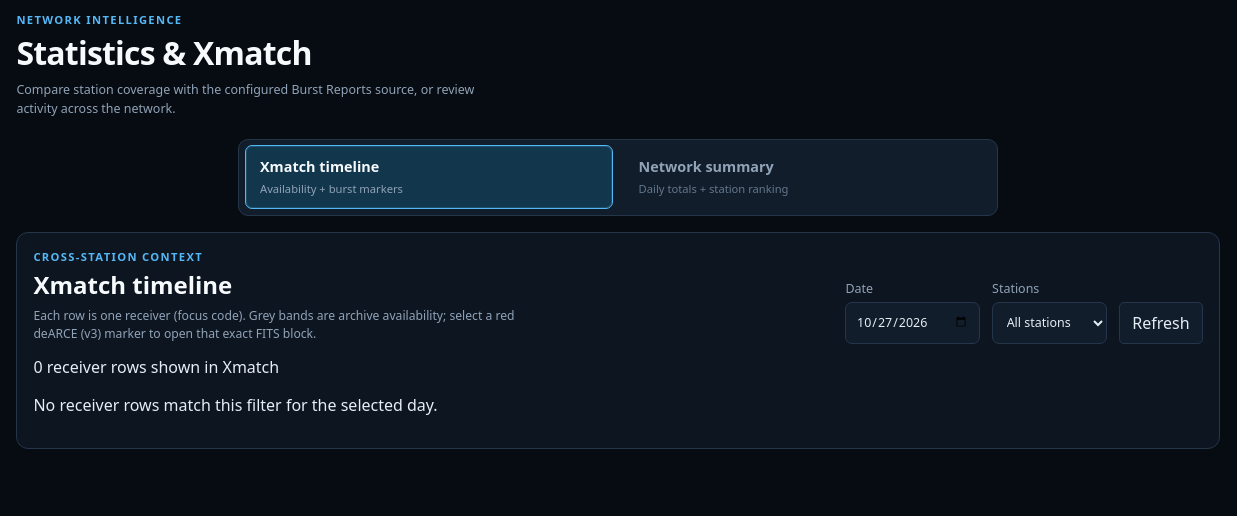
Test: analysis panels › makes Xmatch the primary statistics view without losing the network summary
Expected: the heading "Xmatch timeline" is shown, left=33, top=268, right=232, bottom=301
Expected: the heading "Bursts observed" is not shown
Click the tab "Network summary Daily totals + station ranking".
click(706, 167)  # box left=623, top=145, right=991, bottom=209
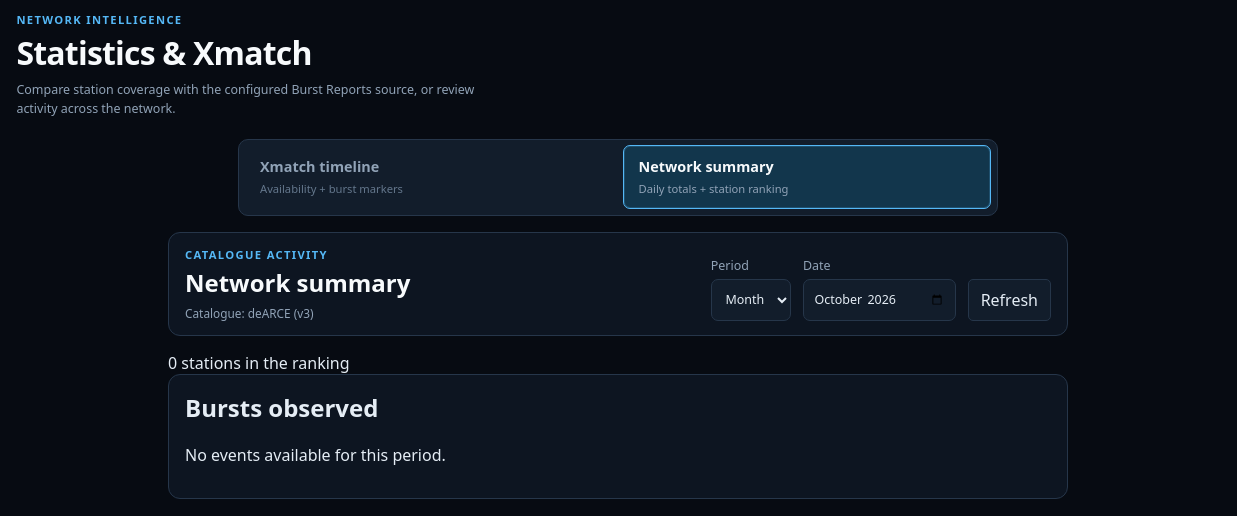
Now the heading "Bursts observed" is shown, box left=185, top=391, right=378, bottom=424
